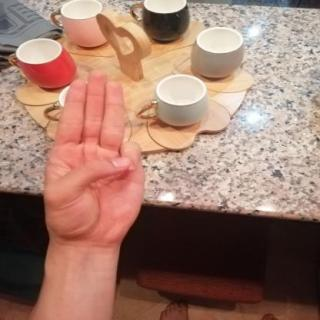THA: (31, 62, 153, 250)
